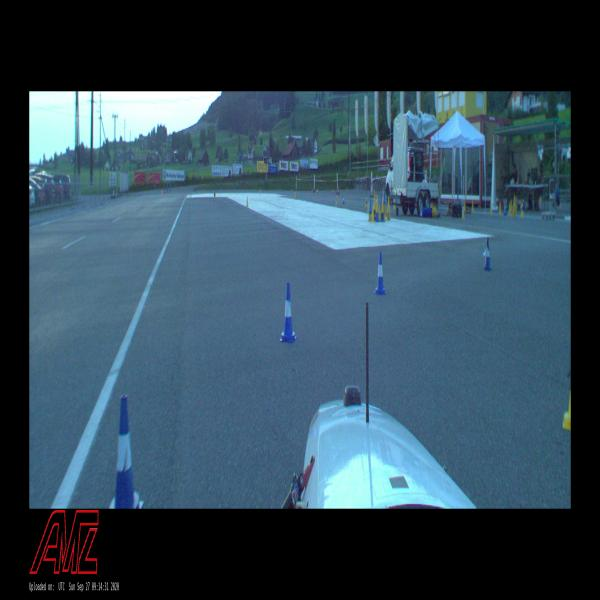blue_cone: (109, 394, 144, 508), (280, 283, 296, 342), (374, 252, 386, 295), (484, 237, 492, 270), (419, 207, 424, 218), (383, 188, 386, 204), (369, 198, 372, 212), (504, 202, 507, 215), (375, 213, 379, 222), (380, 213, 384, 222), (342, 195, 345, 204)
yellow_cone: (371, 206, 375, 222), (512, 201, 516, 217), (520, 203, 524, 217), (387, 196, 390, 214), (461, 207, 465, 220), (373, 194, 376, 210), (376, 197, 379, 213), (381, 197, 384, 213), (508, 202, 511, 217), (471, 200, 474, 213), (246, 196, 249, 208), (367, 202, 370, 213), (379, 205, 381, 220), (393, 199, 396, 209), (499, 202, 501, 215), (335, 196, 338, 204), (490, 203, 492, 214), (365, 198, 367, 208)
